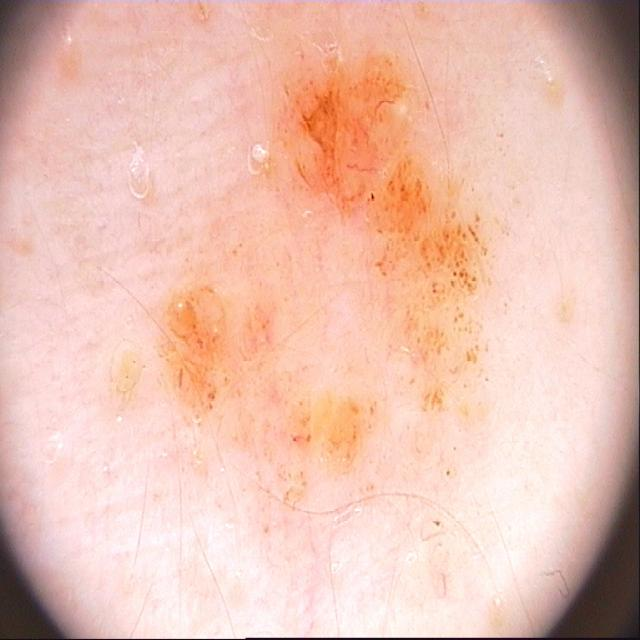Skin-Cancer Nevus: (21, 11, 619, 640)
